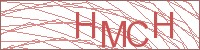C: (125, 20, 149, 48)
H: (150, 10, 176, 40), (73, 10, 97, 39)
M: (99, 19, 128, 49)
